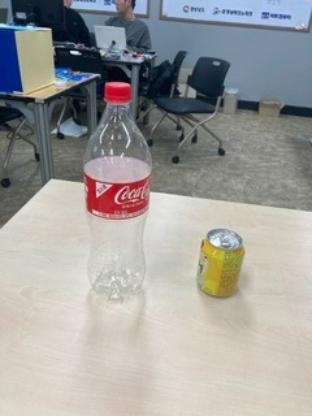Can: (195, 224, 247, 302)
Plastic Bottle: (79, 77, 153, 307)
